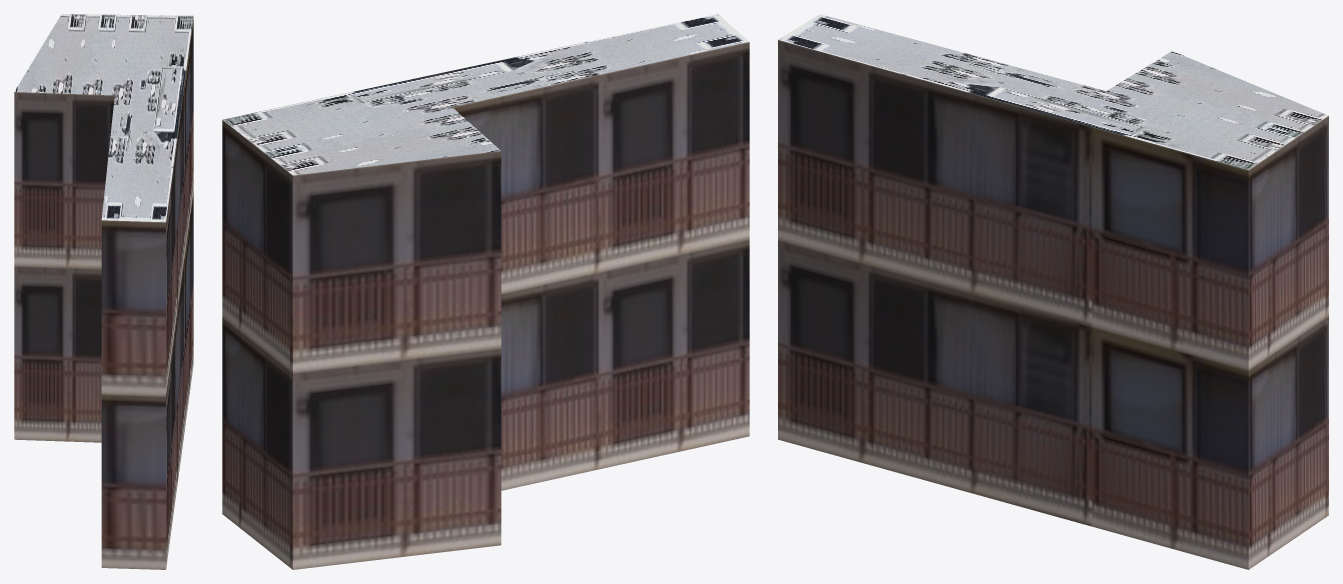
File: ResTex__3824.fbx
3 renders of one model, left to right at view 1: azimuth 30°, elevation 25°; view 2: azimuth 150°, elevation 25°; view 3: azimuth 270°, elevation 25°, orthographic. The views are drawn at different scales.
Parts seen in each view (by area): view 1: CityEngineMaterial_6_m, CityEngineMaterial_m; view 2: CityEngineMaterial_6_m, CityEngineMaterial_m; view 3: CityEngineMaterial_6_m, CityEngineMaterial_m.
Boxes of the visible parts, x1=… form: CityEngineMaterial_6_m: x1=14, y1=18, x2=193, y2=569; CityEngineMaterial_m: x1=14, y1=14, x2=193, y2=222; CityEngineMaterial_6_m: x1=222, y1=42, x2=749, y2=569; CityEngineMaterial_m: x1=222, y1=14, x2=749, y2=175; CityEngineMaterial_6_m: x1=778, y1=40, x2=1328, y2=569; CityEngineMaterial_m: x1=778, y1=14, x2=1328, y2=169.
Size of the model in its own units: 5.03 by 6 by 7.49.
2 materials, 2 textured.
